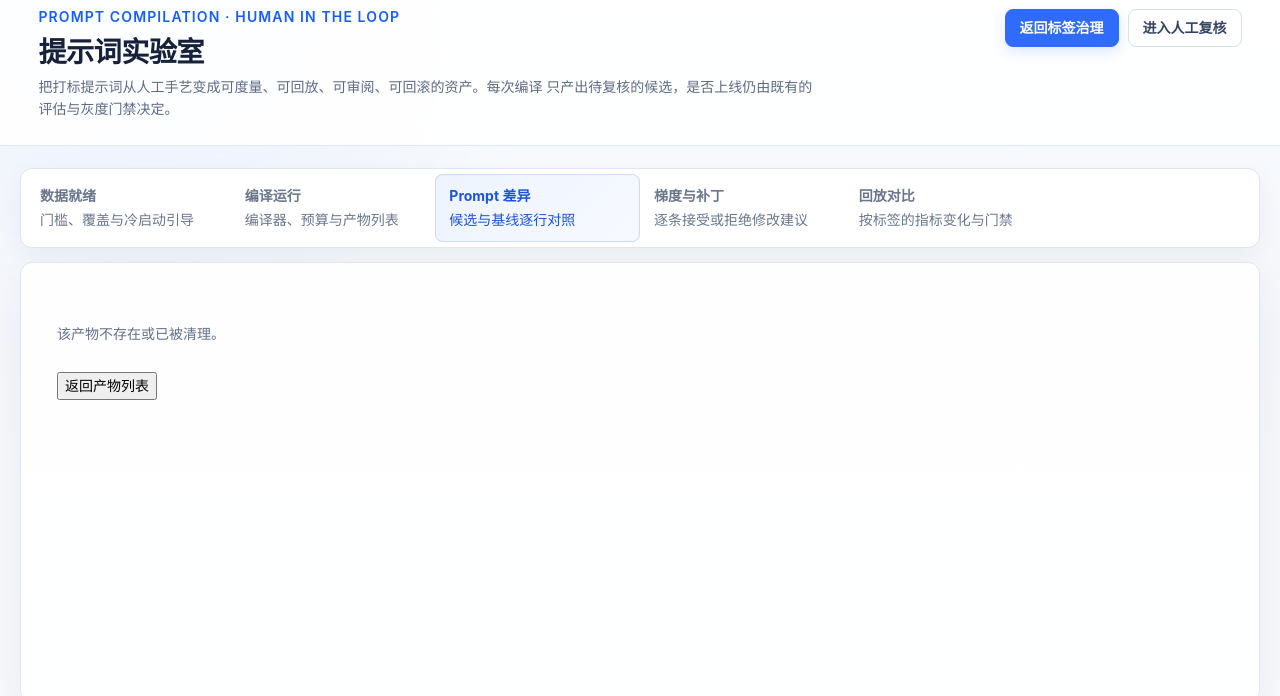
Scenario: PromptLabPage › clears a stale artifact id when the diff endpoint reports it is gone
Click the button "返回产物列表" at (107, 386), box x1=57 y1=372 x2=157 y2=400
(page scrolled)
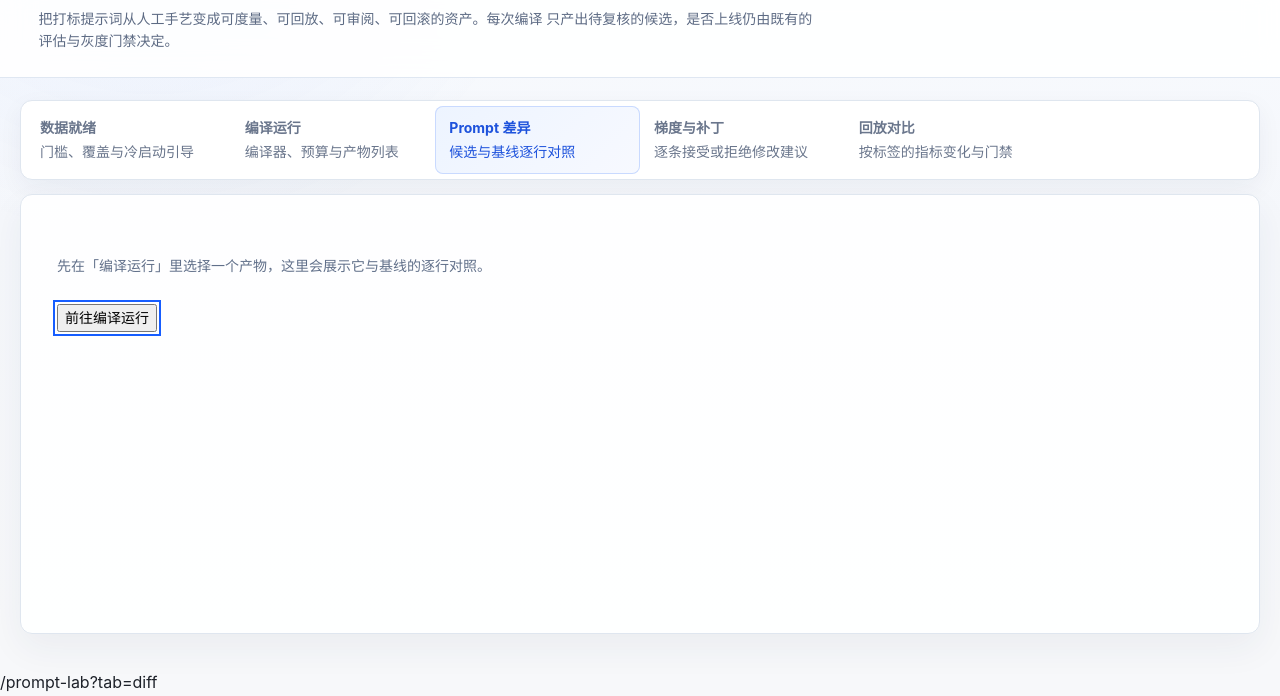
Now the text named "当前查询" reads "/prompt-lab?tab=diff", box x1=0 y1=672 x2=157 y2=692
Now the text named "当前查询" no longer shows "artifact=", box x1=0 y1=672 x2=157 y2=692
